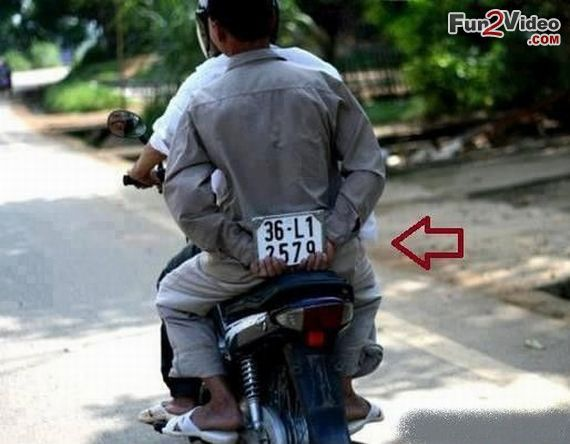plate: (259, 214, 326, 263)
